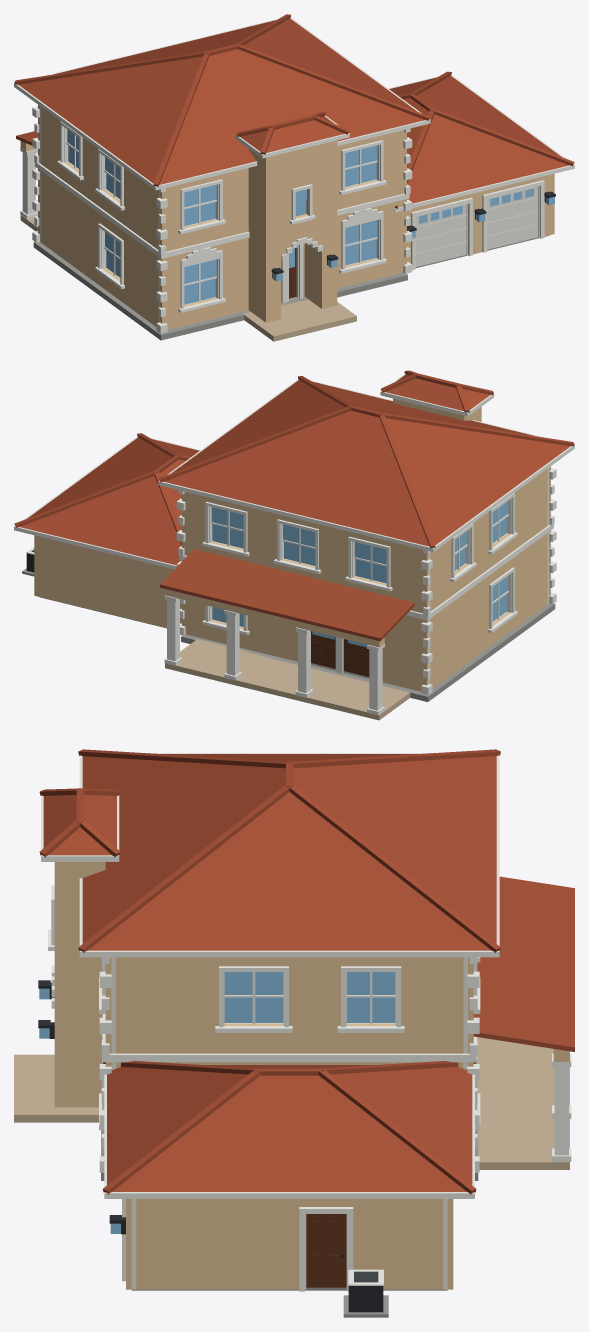
The model's file is Mediterranean.glb.
3 views of the same model, one above another, from view 1: azimuth 30°, elevation 25°; view 2: azimuth 150°, elevation 25°; view 3: azimuth 270°, elevation 25° (orthographic). The views are drawn at different scales.
Parts seen in each view (by area): view 1: Mediterranean_Roof, Mediterranean_WallsOut, Mediterranean_Trim, Mediterranean_Glass, Mediterranean_Foundation, Mediterranean_Pavers, Mediterranean_GarageDoor2, Mediterranean_GarageDoor1, Mediterranean_WallsIn, Mediterranean_Sash1, Mediterranean_Sash2, Mediterranean_Sash3 (+1 smaller); view 2: Mediterranean_Roof, Mediterranean_WallsOut, Mediterranean_Trim, Mediterranean_Pavers, Mediterranean_Foundation, Mediterranean_Glass, Mediterranean_Door3, Mediterranean_Door4, Mediterranean_WallsIn, Mediterranean_Sash7, Mediterranean_Sash9, Mediterranean_Sash8; view 3: Mediterranean_Roof, Mediterranean_WallsOut, Mediterranean_Trim, Mediterranean_Pavers, Mediterranean_Door6, Mediterranean_Glass, Mediterranean_WallsIn, Mediterranean_Metal, Mediterranean_Sash13, Mediterranean_Foundation, Mediterranean_Sash14.
Part boxes in pixels (left/top/right/bottom): Mediterranean_Roof: left=14, top=14, right=574, bottom=208; Mediterranean_WallsOut: left=20, top=105, right=554, bottom=329; Mediterranean_Trim: left=14, top=17, right=574, bottom=333; Mediterranean_Glass: left=67, top=129, right=554, bottom=283; Mediterranean_Foundation: left=33, top=235, right=549, bottom=340; Mediterranean_Pavers: left=20, top=211, right=356, bottom=341; Mediterranean_GarageDoor2: left=487, top=186, right=538, bottom=249; Mediterranean_GarageDoor1: left=416, top=204, right=466, bottom=266; Mediterranean_WallsIn: left=40, top=106, right=376, bottom=322; Mediterranean_Sash1: left=184, top=278, right=215, bottom=304; Mediterranean_Sash2: left=345, top=239, right=376, bottom=265; Mediterranean_Sash3: left=184, top=202, right=215, bottom=226; Mediterranean_Roof: left=14, top=370, right=574, bottom=641; Mediterranean_WallsOut: left=34, top=398, right=550, bottom=691; Mediterranean_Trim: left=14, top=374, right=574, bottom=715; Mediterranean_Pavers: left=165, top=639, right=410, bottom=720; Mediterranean_Foundation: left=22, top=568, right=555, bottom=701; Mediterranean_Glass: left=211, top=501, right=507, bottom=601; Mediterranean_Door3: left=343, top=639, right=369, bottom=676; Mediterranean_Door4: left=311, top=631, right=335, bottom=668; Mediterranean_WallsIn: left=212, top=468, right=548, bottom=683; Mediterranean_Sash7: left=355, top=559, right=386, bottom=583; Mediterranean_Sash9: left=212, top=524, right=243, bottom=548; Mediterranean_Sash8: left=284, top=542, right=315, bottom=565; Mediterranean_Roof: left=39, top=749, right=574, bottom=1194; Mediterranean_WallsOut: left=54, top=862, right=569, bottom=1289; Mediterranean_Trim: left=41, top=753, right=571, bottom=1291; Mediterranean_Pavers: left=14, top=1037, right=569, bottom=1169; Mediterranean_Door6: left=306, top=1214, right=346, bottom=1287; Mediterranean_Glass: left=39, top=972, right=395, bottom=1233; Mediterranean_WallsIn: left=111, top=957, right=467, bottom=1289; Mediterranean_Metal: left=38, top=980, right=383, bottom=1312; Mediterranean_Sash13: left=224, top=997, right=283, bottom=1022; Mediterranean_Foundation: left=101, top=1085, right=478, bottom=1317; Mediterranean_Sash14: left=347, top=997, right=395, bottom=1022.
Bounding box in the file's own units: 75.49 × 34.5 × 55.05.
